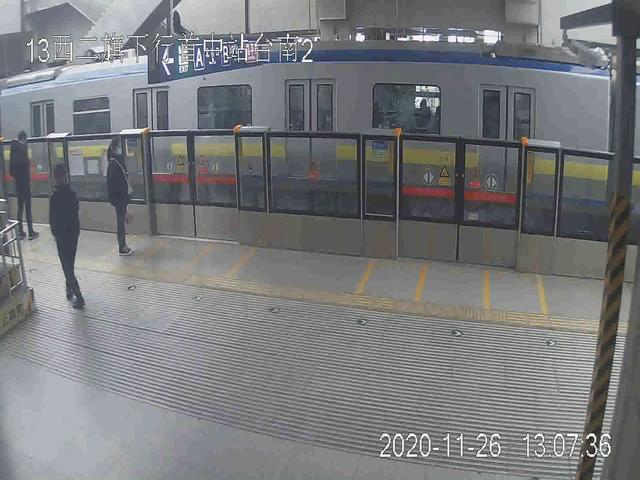person: (44, 163, 88, 306), (102, 135, 139, 256), (9, 130, 38, 237)
